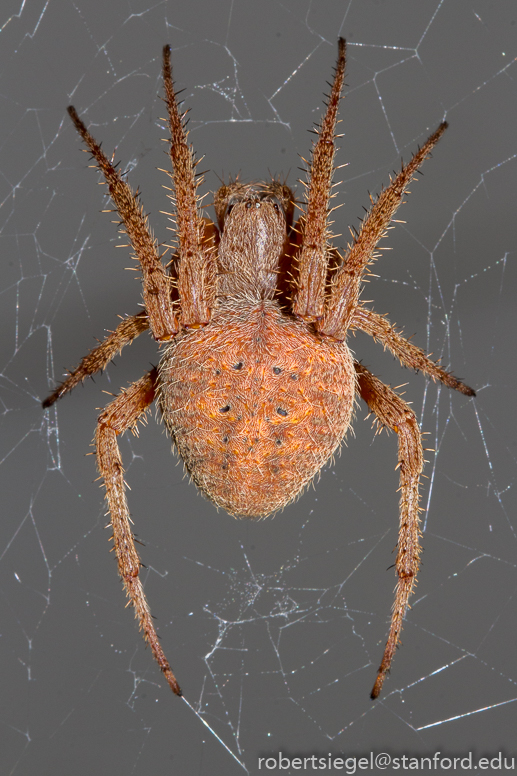spider: (32, 14, 493, 724)
